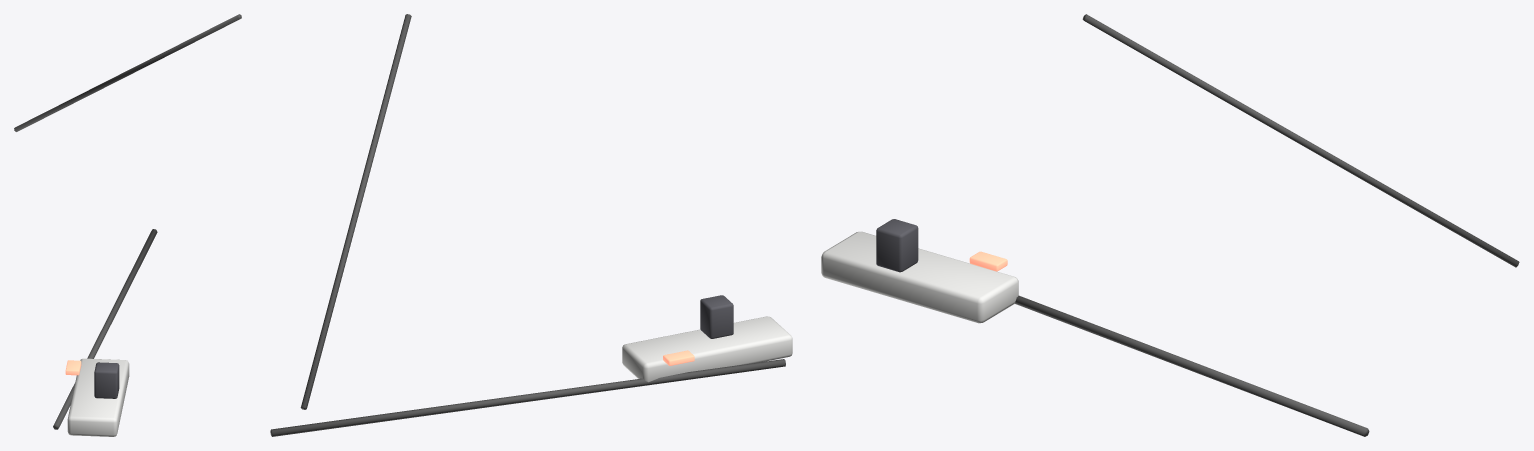
Rendered from Indo_Terminal_Colokan.fbx.
The picture shows the model from 3 angles, left to right: view 1: azimuth 30°, elevation 25°; view 2: azimuth 150°, elevation 25°; view 3: azimuth 270°, elevation 25°; orthographic projection. The views are drawn at different scales.
Parts seen in each view (by area): view 1: Indo_Terminal_Colokan; view 2: Indo_Terminal_Colokan; view 3: Indo_Terminal_Colokan.
Part boxes in pixels (x1=…): Indo_Terminal_Colokan: x1=14, y1=14, x2=241, y2=436; Indo_Terminal_Colokan: x1=270, y1=14, x2=792, y2=436; Indo_Terminal_Colokan: x1=821, y1=14, x2=1519, y2=436.
Bounding box in the file's own units: 57.77 × 59.45 × 91.62.
